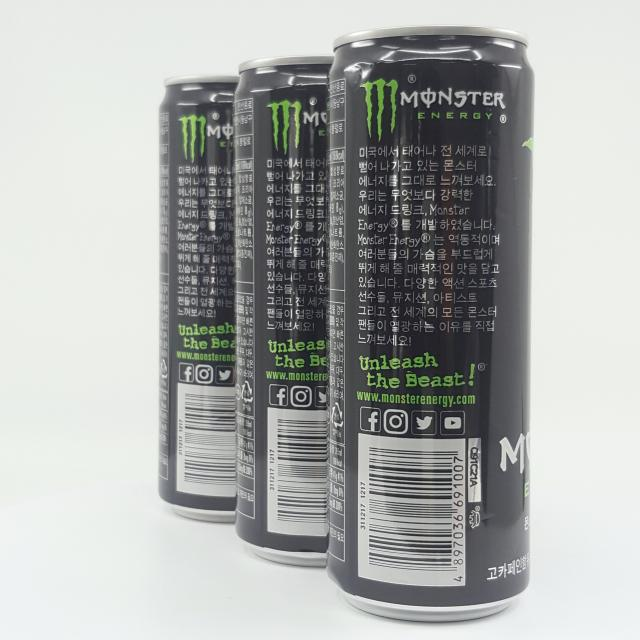--------355ML: (326, 26, 533, 623), (232, 59, 394, 567), (158, 75, 293, 524)
